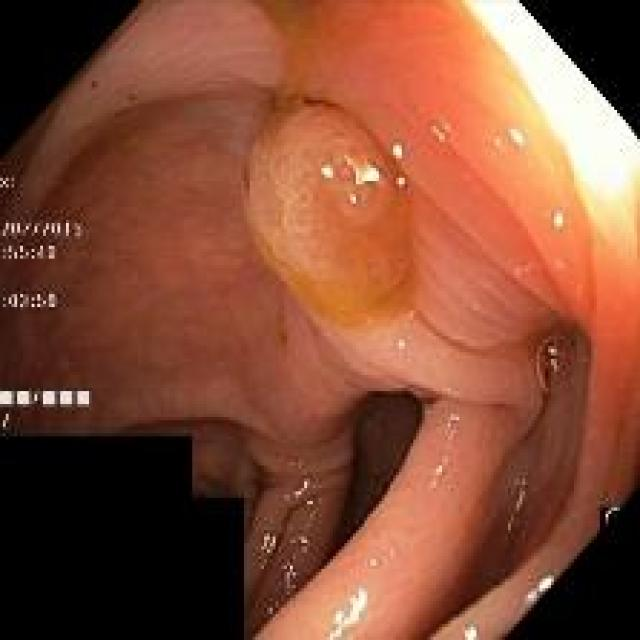Polyps: (246, 105, 412, 327)
